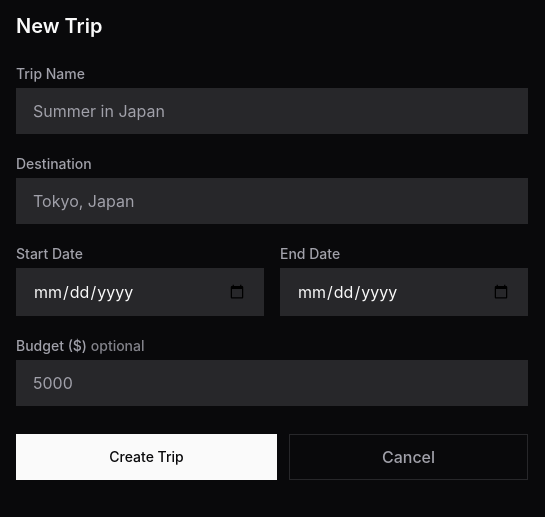
it: CreateTrip shows error when destination is missing
This screenshot has width=545, height=517.
Type "Test Trip" into the field labelled "Trip Name". click: x=272, y=111
box: x1=16 y1=88 x2=528 y2=134
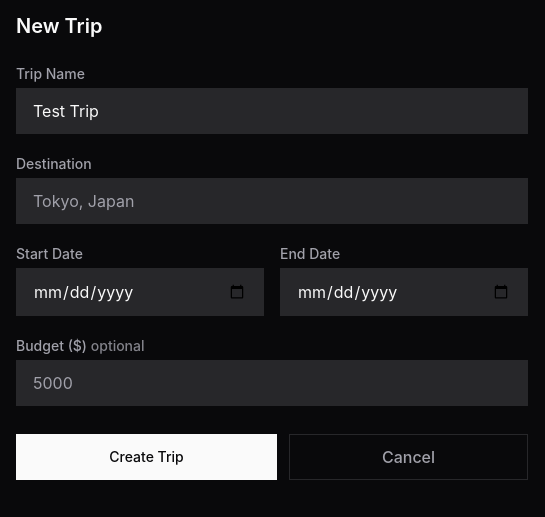
Type "2026-05-01" into the date field labelled "Start Date". click: x=140, y=292
box: x1=16 y1=268 x2=264 y2=316
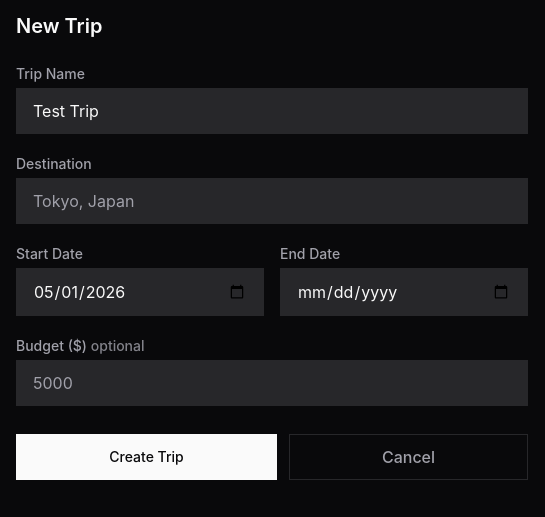
Type "2026-05-07" into the date field labelled "End Date". click: x=404, y=292
box: x1=280 y1=268 x2=528 y2=316
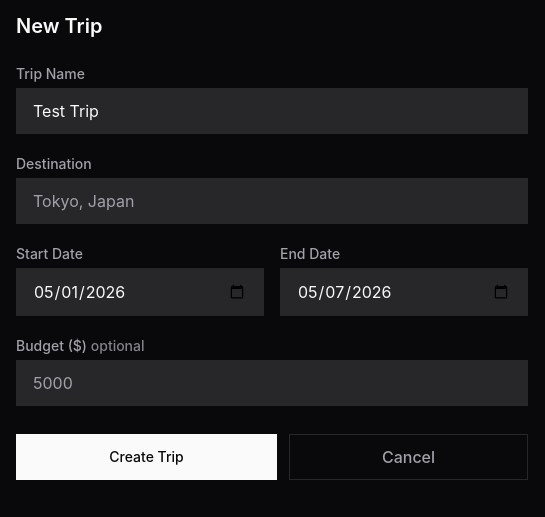
Click the button "Create Trip". click: x=146, y=457
box: x1=16 y1=434 x2=277 y2=480
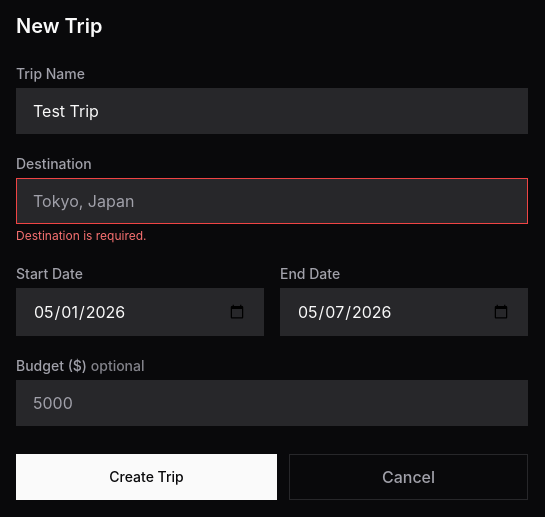
Expected: the text "Destination is required." is shown, x1=16 y1=228 x2=146 y2=243
